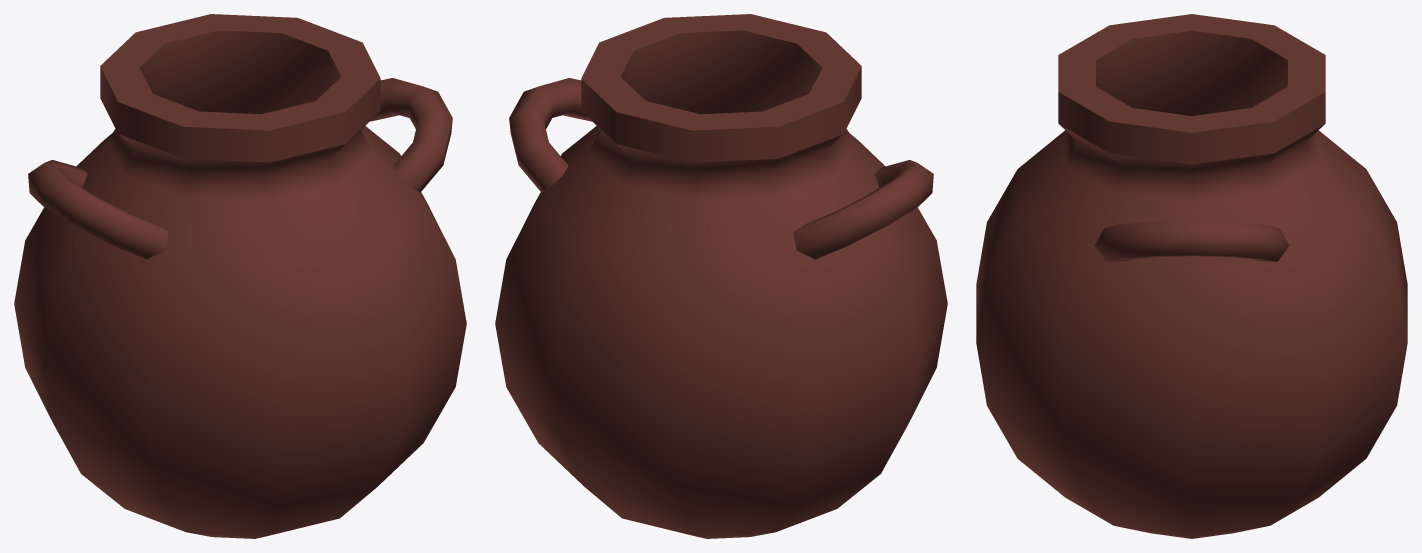
Rendered from PotSmall.fbx.
3 renders of one model, left to right at view 1: azimuth 30°, elevation 25°; view 2: azimuth 150°, elevation 25°; view 3: azimuth 270°, elevation 25°, orthographic.
Visible parts, largest first — view 1: Small; view 2: Small; view 3: Small.
Part boxes in pixels (bbox=[...]): Small: bbox=[14, 14, 466, 538]; Small: bbox=[495, 14, 947, 538]; Small: bbox=[976, 14, 1407, 538].
Bounding box in the file's own units: 1.17 × 1.23 × 1.11.
